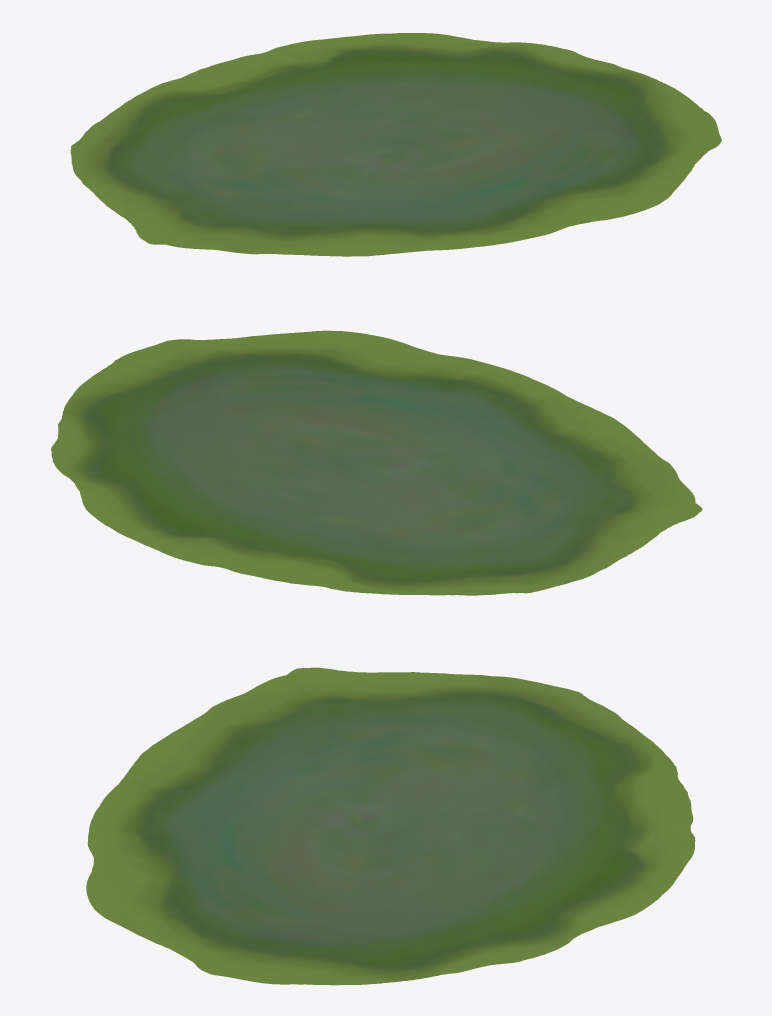
The model's file is worldplane6.FBX.
The picture shows the model from 3 angles, top to bottom: view 1: azimuth 30°, elevation 25°; view 2: azimuth 150°, elevation 25°; view 3: azimuth 270°, elevation 25°; orthographic projection. The views are drawn at different scales.
Parts seen in each view (by area): view 1: worldplane6; view 2: worldplane6; view 3: worldplane6.
Part boxes in pixels (x1=…): worldplane6: x1=70, y1=33, x2=721, y2=256; worldplane6: x1=51, y1=330, x2=702, y2=595; worldplane6: x1=86, y1=667, x2=695, y2=985.
Size of the model in its own units: 1.49 by 2.05e-09 by 1.33.
Materials: 1 (1 with a texture image).
